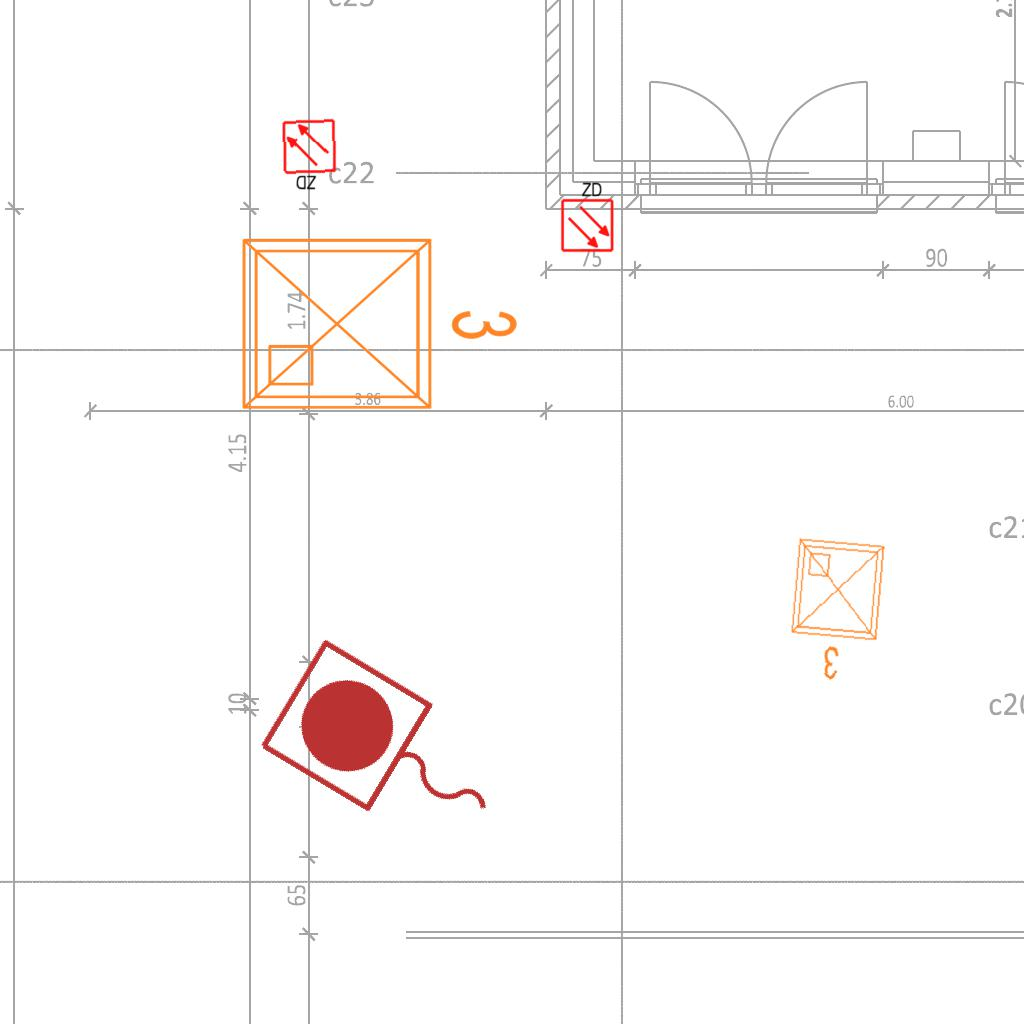Einbaudownlights_LED_Konferenzraeume: (228, 216, 528, 424), (779, 530, 897, 690)
ZD_Melder_in_Zwischendecke_mit_Revisionsoeffnung_mind_40_x_40_cm: (280, 118, 341, 194), (558, 179, 615, 253)
Zugtaster: (247, 628, 531, 878)
